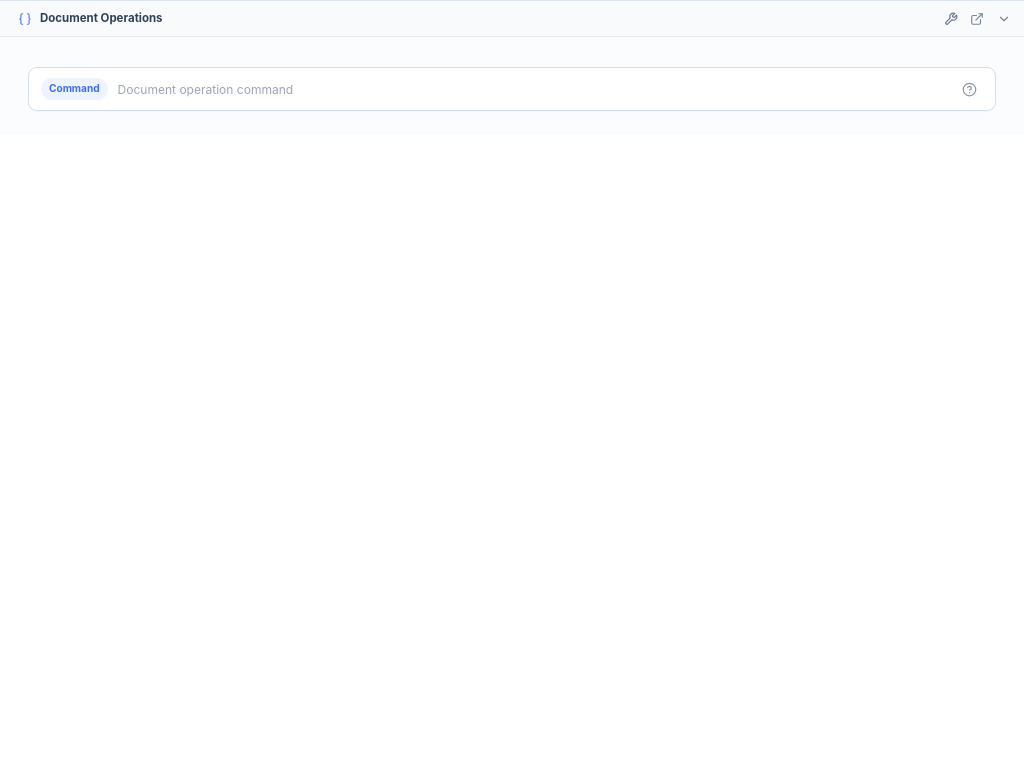
Test: WorkbenchToolPanels › opens the operation composer from the panel title bar
This screenshot has width=1024, height=768.
Click the button named "Open operation composer" at (951, 19), box x1=938 y1=6 x2=963 y2=31
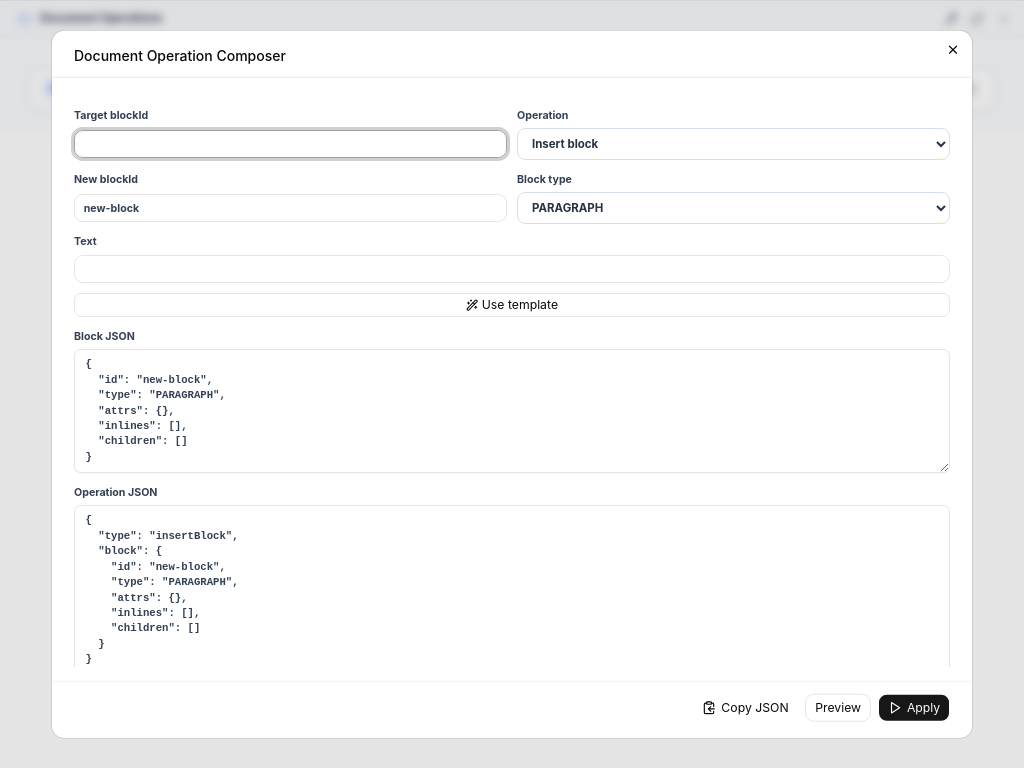
expect the dialog is shown: met
expect the heading "Document Operation Composer" is shown: met, box x1=74 y1=47 x2=286 y2=64
